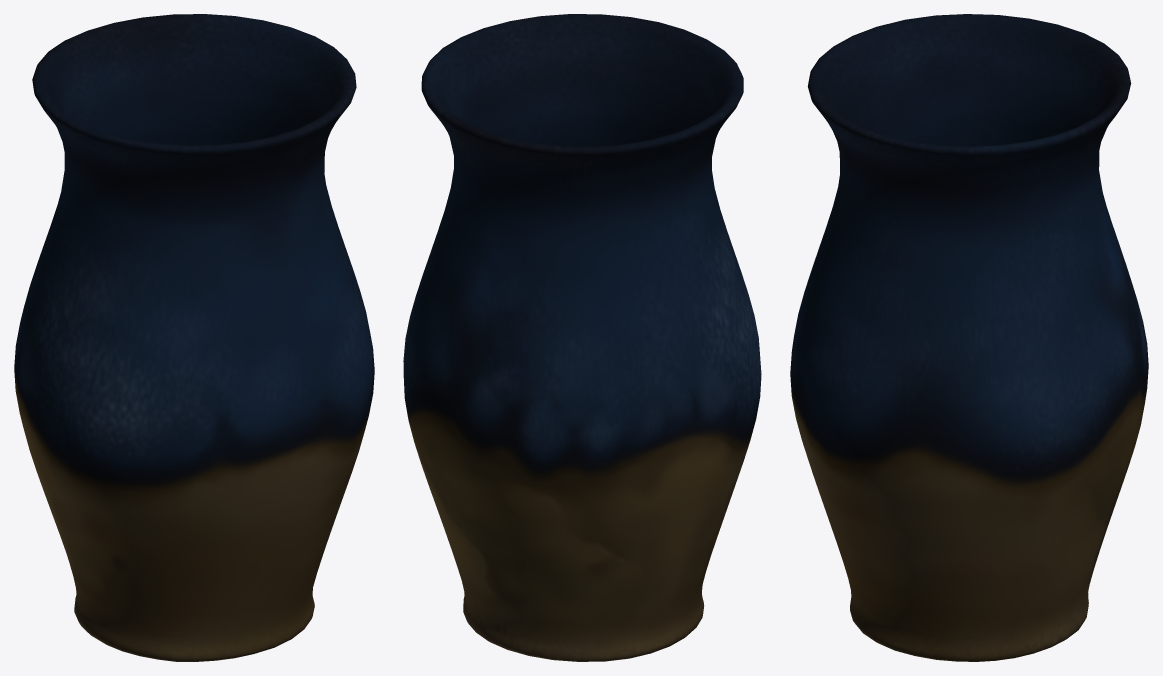
The picture shows the model from 3 angles, left to right: view 1: azimuth 30°, elevation 25°; view 2: azimuth 150°, elevation 25°; view 3: azimuth 270°, elevation 25°; orthographic projection.
Parts seen in each view (by area): view 1: Object_2; view 2: Object_2; view 3: Object_2.
Boxes of the visible parts, left/top/right/bottom form: Object_2: left=14, top=14, right=374, bottom=661; Object_2: left=403, top=14, right=761, bottom=661; Object_2: left=790, top=14, right=1148, bottom=661.
Bounding box in the file's own units: 1.32 × 2.16 × 1.31.
1 material, 1 textured.
